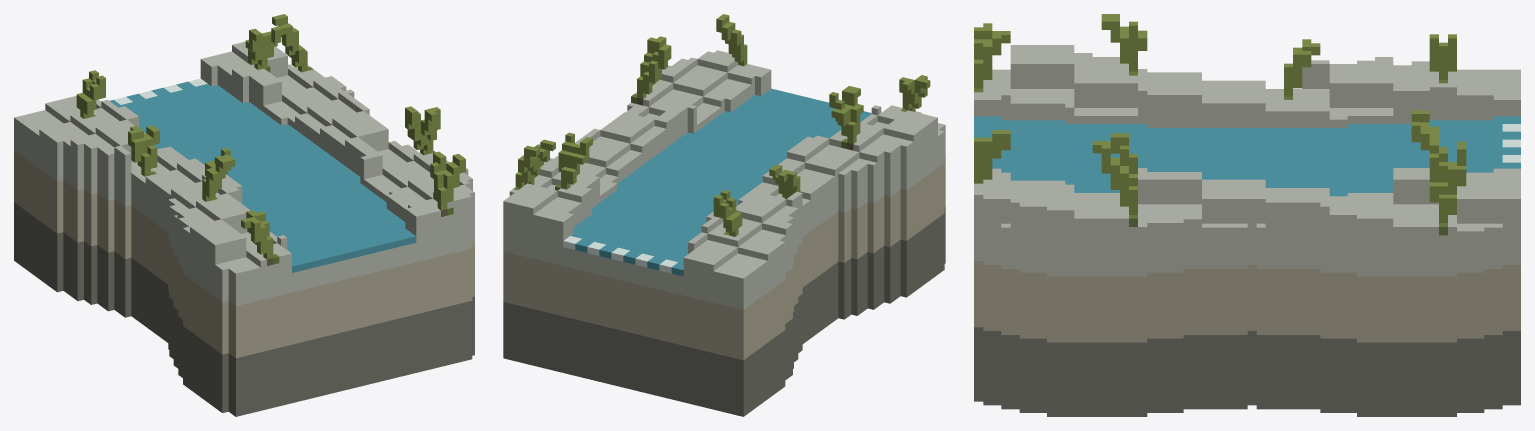
3 views of the same model, side by side, from view 1: azimuth 30°, elevation 25°; view 2: azimuth 150°, elevation 25°; view 3: azimuth 270°, elevation 25° (orthographic). The views are drawn at different scales.
Visible parts, largest first — view 1: 上游来水与瀑口岩唇组件; view 2: 上游来水与瀑口岩唇组件; view 3: 上游来水与瀑口岩唇组件.
Boxes of the visible parts, x1,y1,x2,y2 form: 上游来水与瀑口岩唇组件: (14,14,474,416); 上游来水与瀑口岩唇组件: (503,14,945,416); 上游来水与瀑口岩唇组件: (974,14,1520,416).
Size of the model in its own units: 8.6 by 6.4 by 12.
8 materials, 6 textured.
